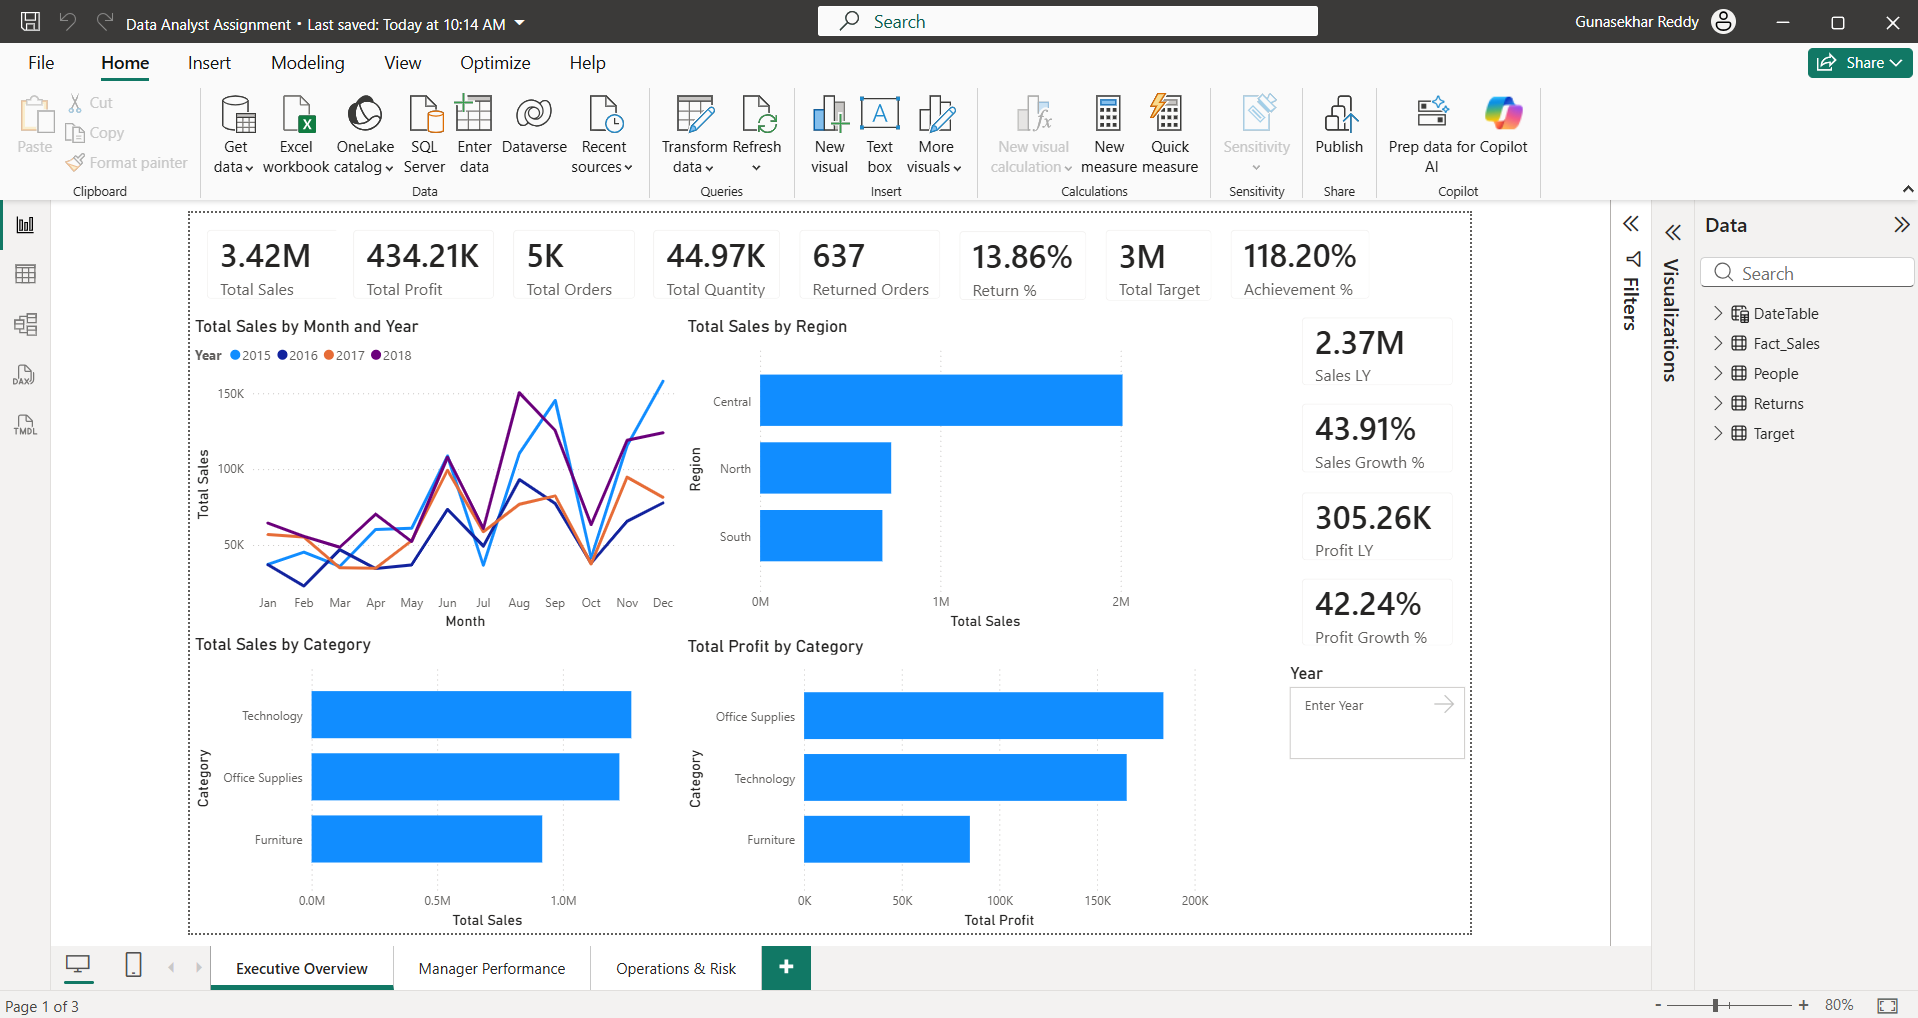

This screenshot's page, from the dashboard's own definition file:
{"tool":"powerbi","page":{"name":"Executive Overview","canvas":[1280,720],"ordinal":0},"visuals":[{"type":"cardVisual","fields":{"Data":["DateTable.Total Sales"]},"box":[0,0,175,103.8],"z":0},{"type":"cardVisual","fields":{"Data":["DateTable.Total Profit"]},"box":[146.2,0,175,103.8],"z":1000},{"type":"cardVisual","fields":{"Data":["DateTable.Total Orders"]},"box":[306.2,0,156.2,103.8],"z":2000},{"type":"cardVisual","fields":{"Data":["DateTable.Total Quantity"]},"box":[446.2,0,161.2,103.8],"z":3000},{"type":"lineChart","fields":{"Series":["DateTable.Year"],"Y":["DateTable.Total Sales"],"Category":["DateTable.Month"]},"box":[0,102.5,492.5,318.8],"z":4000},{"type":"clusteredBarChart","fields":{"Category":["Fact_Sales.Region"],"Y":["DateTable.Total Sales"]},"box":[492.5,102.5,542.5,318.8],"z":5000},{"type":"clusteredBarChart","fields":{"Category":["Fact_Sales.Category"],"Y":["DateTable.Total Sales"]},"box":[0,421.2,492.5,298.8],"z":6000},{"type":"cardVisual","fields":{"Data":["DateTable.Returned Orders"]},"box":[592.5,0,175,103.8],"z":7000},{"type":"cardVisual","fields":{"Data":["DateTable.Return %"]},"box":[752.5,1.2,161.2,103.8],"z":8000},{"type":"cardVisual","fields":{"Data":["DateTable.Total Target"]},"box":[898.8,0,140,105],"z":9000},{"type":"cardVisual","fields":{"Data":["DateTable.Achievement %"]},"box":[1023.8,0,173.8,103.8],"z":10000},{"type":"clusteredBarChart","fields":{"Category":["Fact_Sales.Category"],"Y":["DateTable.Total Profit"]},"box":[492.5,422.5,531.2,297.5],"z":11000},{"type":"cardVisual","fields":{"Data":["DateTable.Sales LY"]},"box":[1095,87.5,185,102.5],"z":12000},{"type":"cardVisual","fields":{"Data":["DateTable.Sales Growth %"]},"box":[1095,173.8,185,103.8],"z":13000},{"type":"cardVisual","fields":{"Data":["DateTable.Profit LY"]},"box":[1095,262.5,185,102.5],"z":14000},{"type":"cardVisual","fields":{"Data":["DateTable.Profit Growth %"]},"box":[1095,348.8,185,101.2],"z":15000},{"type":"textSlicer","fields":{"Values":["DateTable.Year"]},"box":[1095,450,185,101.2],"z":16000}]}

Visuals, with their boxes on the page's 1280x720 design canvas (x1, y1, x2, y2). These are canvas units, not pixel positions in the 1918x1018 screenshot, which may show the page scaled, cropped or inside an application window:
cardVisual - DateTable.Total Sales: left=0, top=0, right=175, bottom=104
cardVisual - DateTable.Total Profit: left=146, top=0, right=321, bottom=104
cardVisual - DateTable.Total Orders: left=306, top=0, right=462, bottom=104
cardVisual - DateTable.Total Quantity: left=446, top=0, right=607, bottom=104
lineChart - DateTable.Year x DateTable.Total Sales: left=0, top=102, right=492, bottom=421
clusteredBarChart - Fact_Sales.Region x DateTable.Total Sales: left=492, top=102, right=1035, bottom=421
clusteredBarChart - Fact_Sales.Category x DateTable.Total Sales: left=0, top=421, right=492, bottom=720
cardVisual - DateTable.Returned Orders: left=592, top=0, right=768, bottom=104
cardVisual - DateTable.Return %: left=752, top=1, right=914, bottom=105
cardVisual - DateTable.Total Target: left=899, top=0, right=1039, bottom=105
cardVisual - DateTable.Achievement %: left=1024, top=0, right=1198, bottom=104
clusteredBarChart - Fact_Sales.Category x DateTable.Total Profit: left=492, top=422, right=1024, bottom=720
cardVisual - DateTable.Sales LY: left=1095, top=88, right=1280, bottom=190
cardVisual - DateTable.Sales Growth %: left=1095, top=174, right=1280, bottom=278
cardVisual - DateTable.Profit LY: left=1095, top=262, right=1280, bottom=365
cardVisual - DateTable.Profit Growth %: left=1095, top=349, right=1280, bottom=450
textSlicer - DateTable.Year: left=1095, top=450, right=1280, bottom=551
